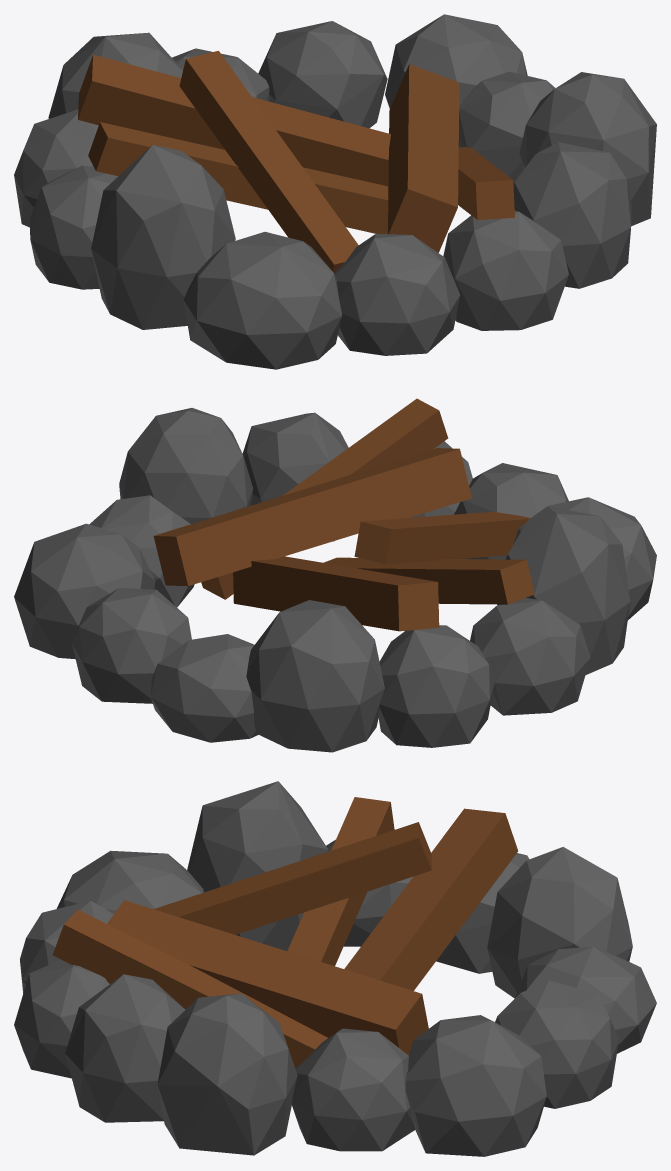
File: CAMP FIRE 1.fbx
3 views of the same model, one above another, from view 1: azimuth 30°, elevation 25°; view 2: azimuth 150°, elevation 25°; view 3: azimuth 270°, elevation 25° (orthographic). The views are drawn at different scales.
Parts seen in each view (by area): view 1: CAMP FIRE; view 2: CAMP FIRE; view 3: CAMP FIRE.
Part boxes in pixels (x1,y1,x2,y2): CAMP FIRE: (14,14,656,369); CAMP FIRE: (14,398,656,752); CAMP FIRE: (14,781,656,1156).
Size of the model in its own units: 274 by 84.77 by 279.
